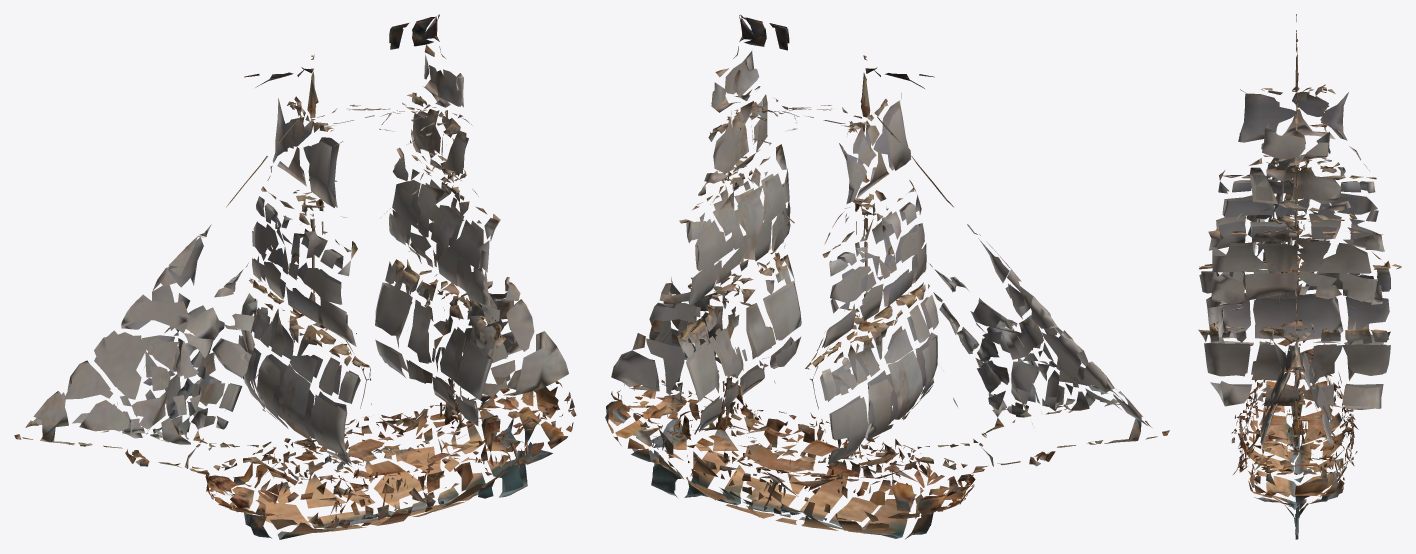
File: galeone.glb
The picture shows the model from 3 angles, left to right: view 1: azimuth 30°, elevation 25°; view 2: azimuth 150°, elevation 25°; view 3: azimuth 270°, elevation 25°; orthographic projection. The views are drawn at different scales.
Size of the model in its own units: 1.98 by 1.74 by 0.7521.
1 material, 1 textured.
